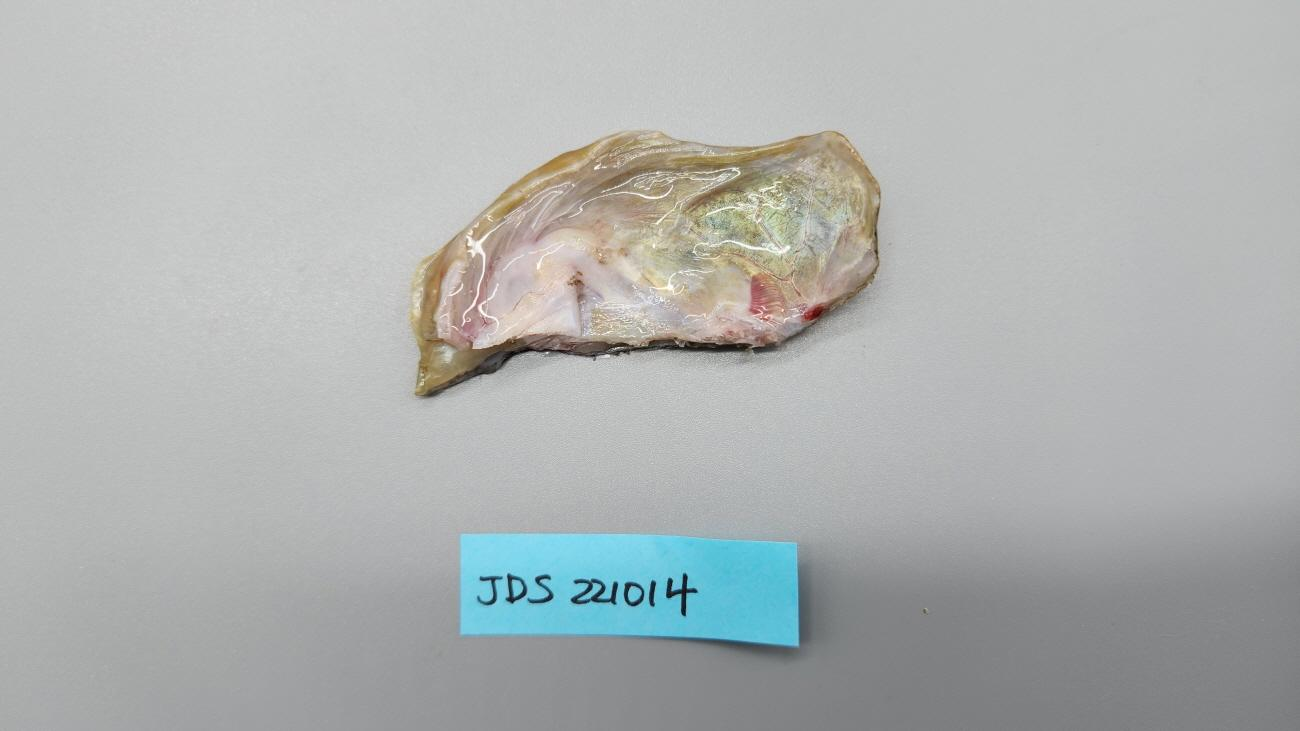POGCN: (407, 128, 880, 397)
